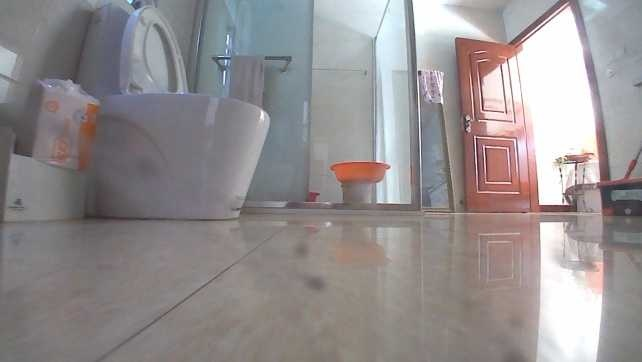door_anno: (453, 34, 530, 216)
toilet: (87, 4, 276, 222)
